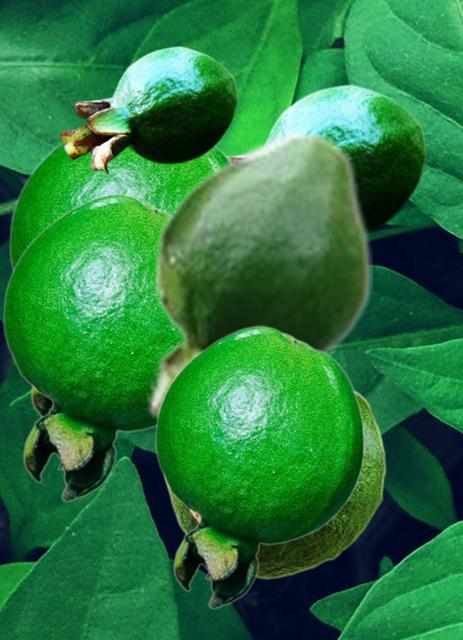guava: (147, 129, 371, 426), (8, 124, 229, 416), (154, 325, 364, 608), (2, 193, 179, 501), (162, 386, 386, 579), (226, 83, 426, 233), (59, 45, 237, 173)
